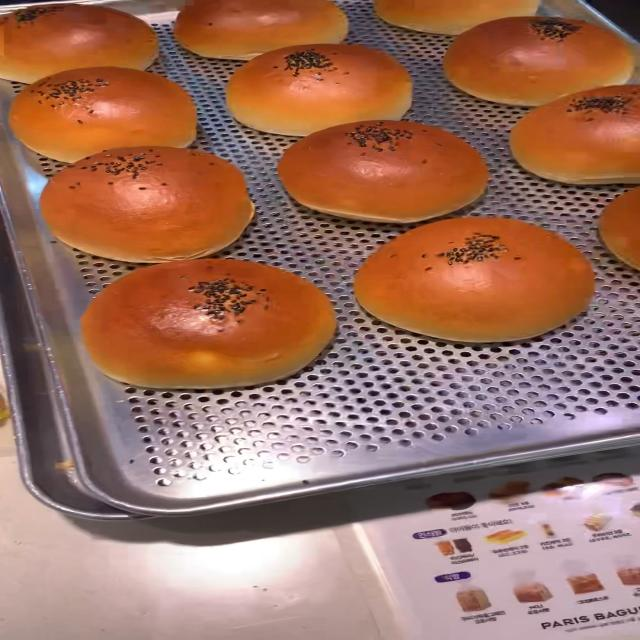bread: (75, 256, 336, 389), (352, 210, 594, 342), (33, 144, 253, 260), (8, 65, 208, 178), (283, 115, 484, 224), (224, 36, 422, 145), (508, 92, 638, 185), (366, 0, 567, 34)
